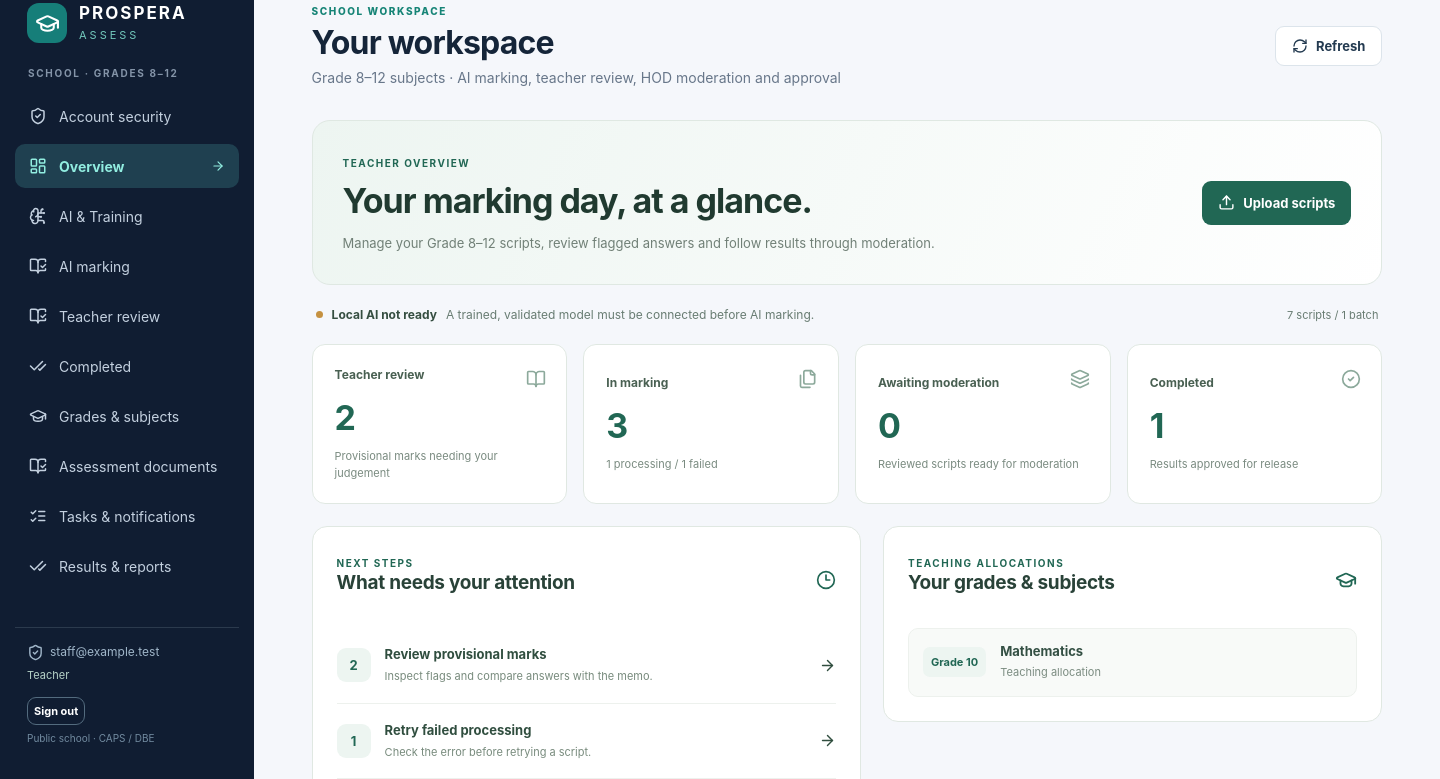
Test: Role dashboards and dedicated queues › opens failed processing in the marking queue
The width and height of the screenshot is (1440, 779).
Click the button "Retry failed processing". click: {"x": 354, "y": 741}
box: [337,704,836,778]
(page scrolled)
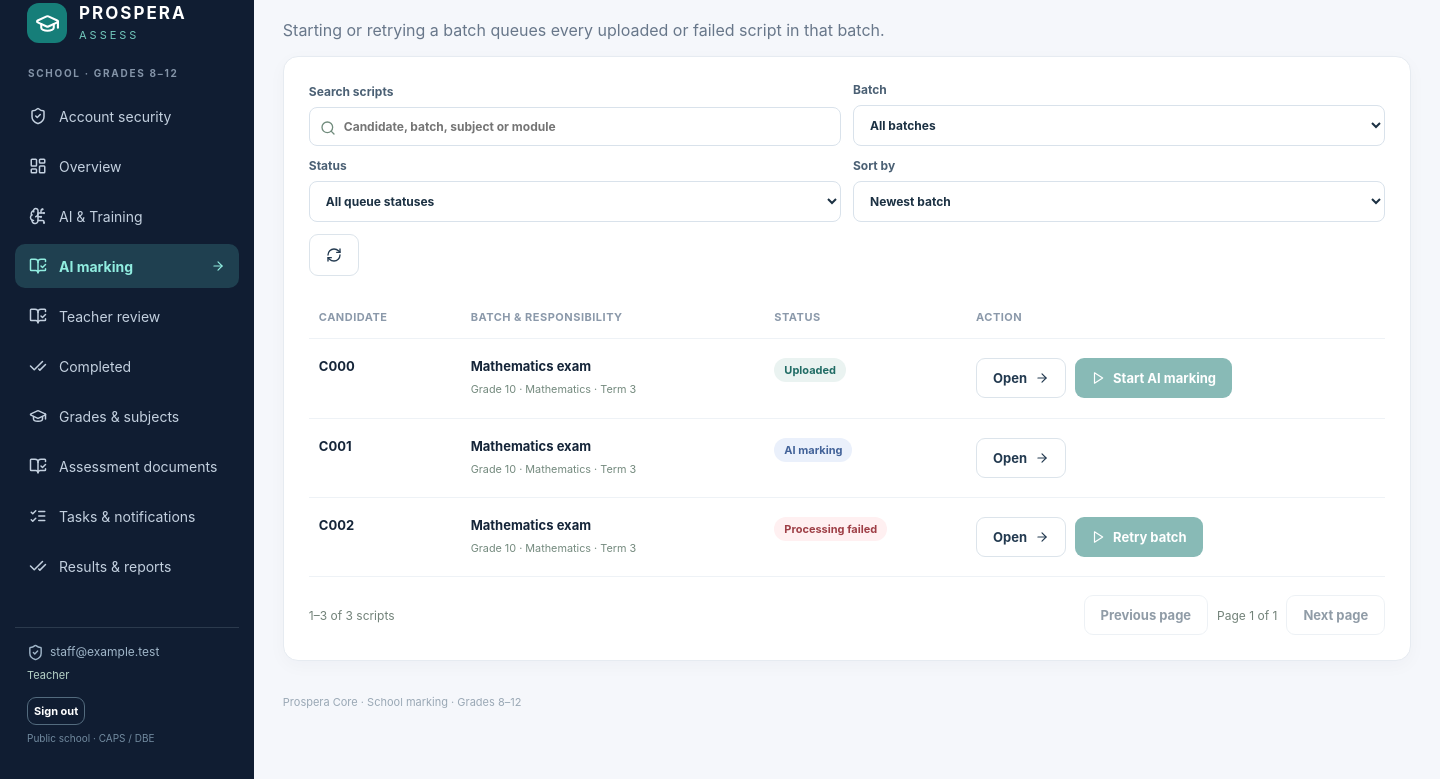
Expected: the text "C002" is shown, [319,517,354,533]
